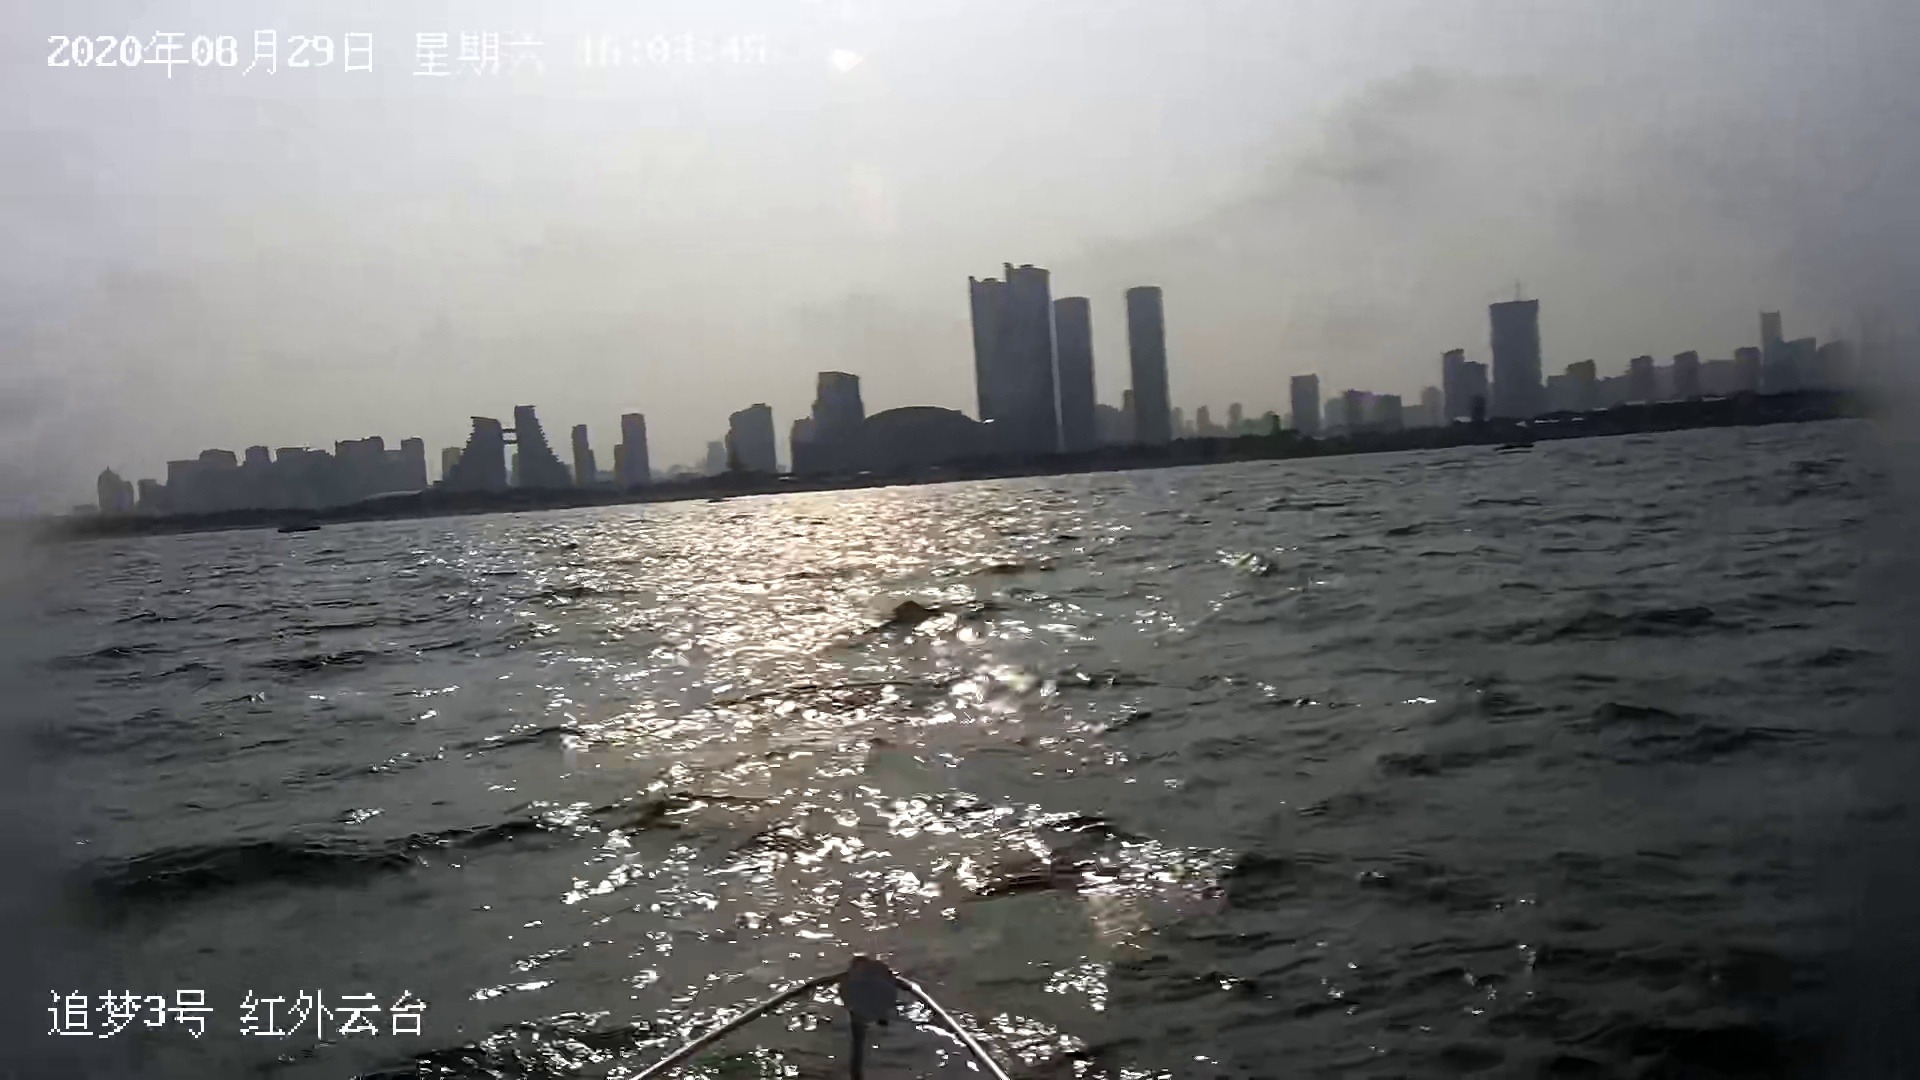barrier: (274, 524, 324, 535)
coast: (40, 258, 1908, 542)
